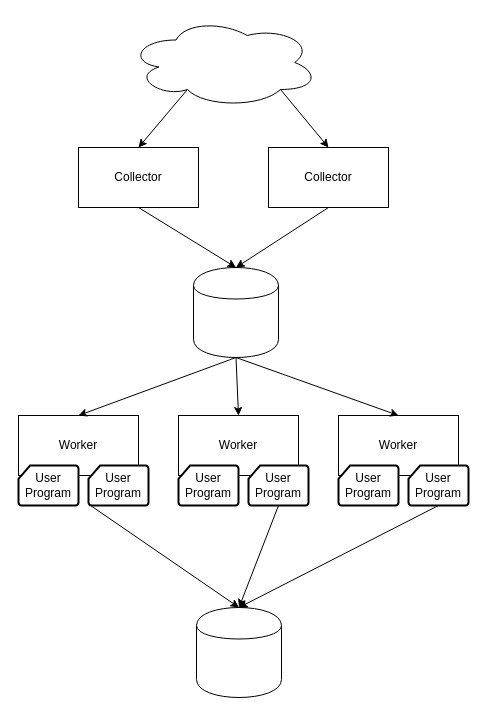
Image size: 486x715. Some labels were removed from this diagram. Each missing label, with the centre of its shape:
Event Queue: point 235,312
Result Store: point 239,652
Streaming APIs: point 223,62
